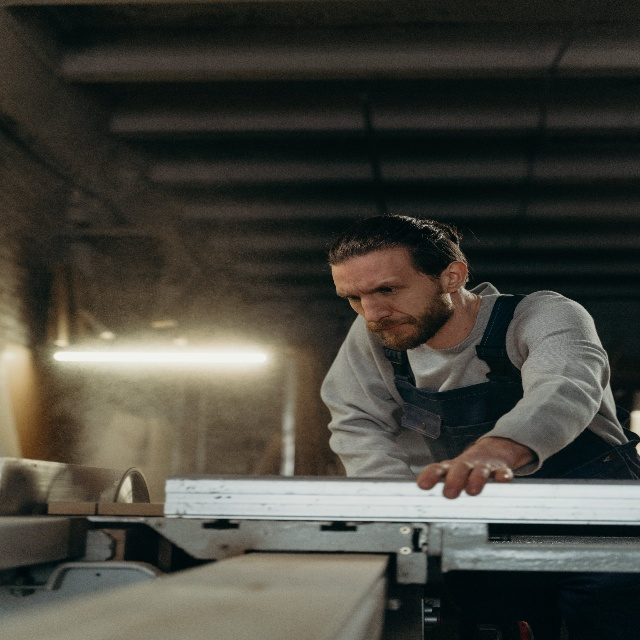Sin_guantes: (418, 441, 515, 499)
